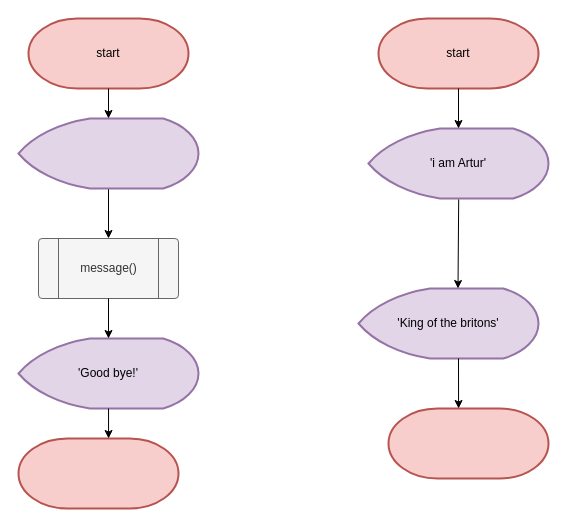
This 566x526 diagram has some shape labels left out. The shapes that lost their labels are listed below. From the top down, each one's centre as x and y in pixels, then its label:
At point 108,153: "'i have a message for you.'".
At point 468,443: "return".
At point 98,473: "stop".
